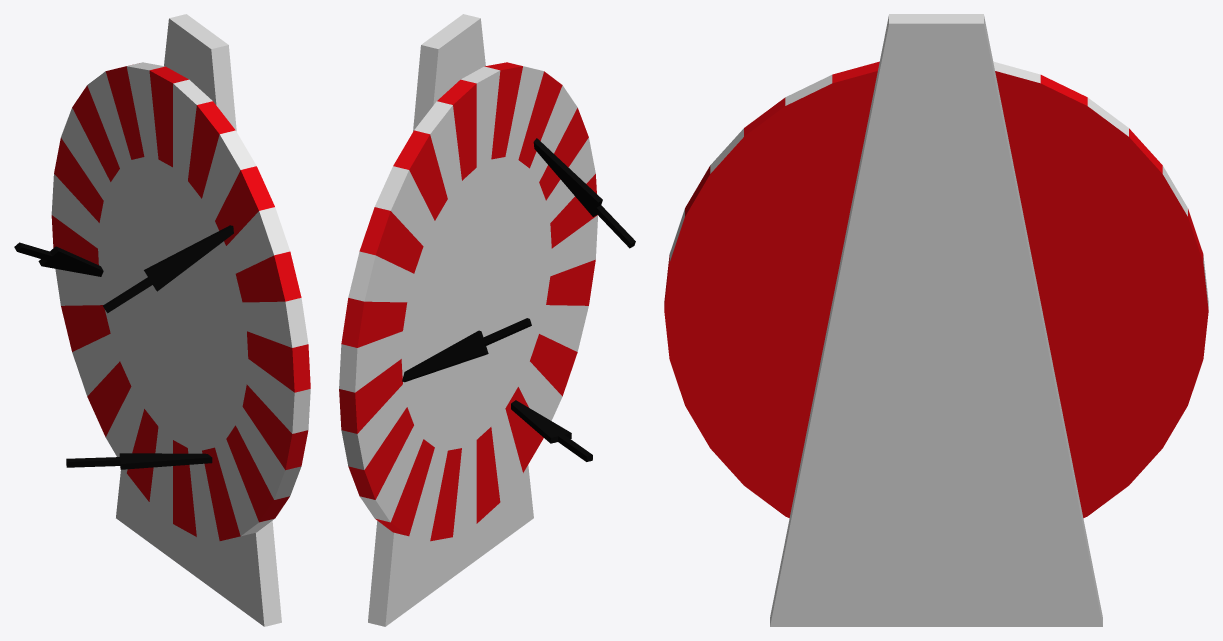
The model's file is Spin.fbx.
3 views of the same model, side by side, from view 1: azimuth 30°, elevation 25°; view 2: azimuth 150°, elevation 25°; view 3: azimuth 270°, elevation 25° (orthographic). The views are drawn at different scales.
Parts seen in each view (by area): view 1: Circle; view 2: Circle; view 3: Circle.
Boxes of the visible parts, x1=… form: Circle: x1=14, y1=14, x2=310, y2=626; Circle: x1=339, y1=14, x2=635, y2=626; Circle: x1=664, y1=14, x2=1208, y2=626.
Bounding box in the file's own units: 1.16 × 4 × 3.27.
